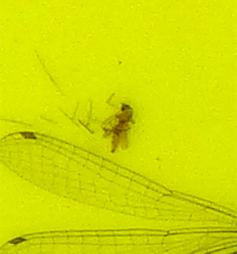Nematocera: (100, 100, 137, 154)
